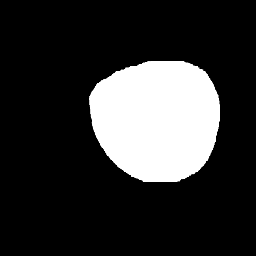mass: (94, 62, 216, 189)
